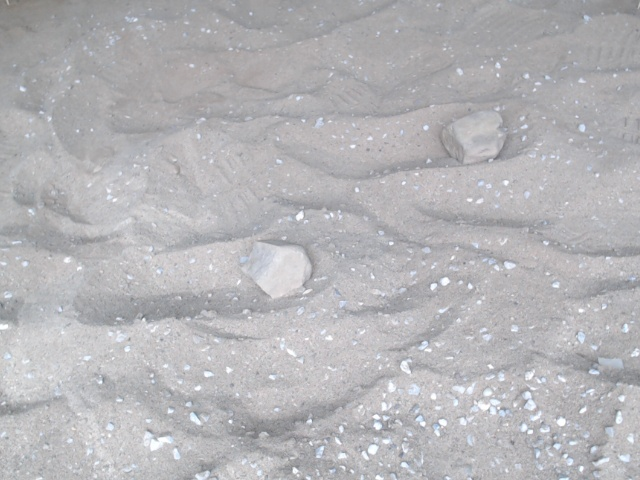rock: (236, 233, 318, 304), (435, 103, 511, 170)
